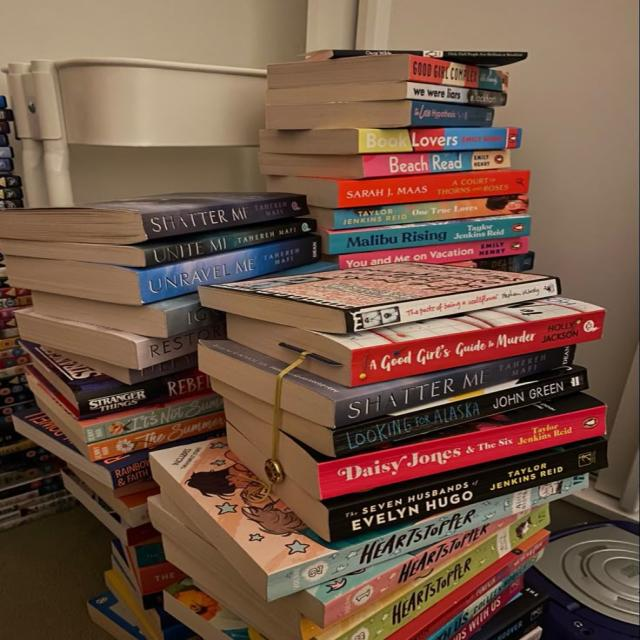book: (325, 406, 604, 493), (351, 309, 609, 383), (146, 219, 317, 269), (144, 196, 302, 237), (410, 99, 491, 124), (412, 85, 509, 105)
